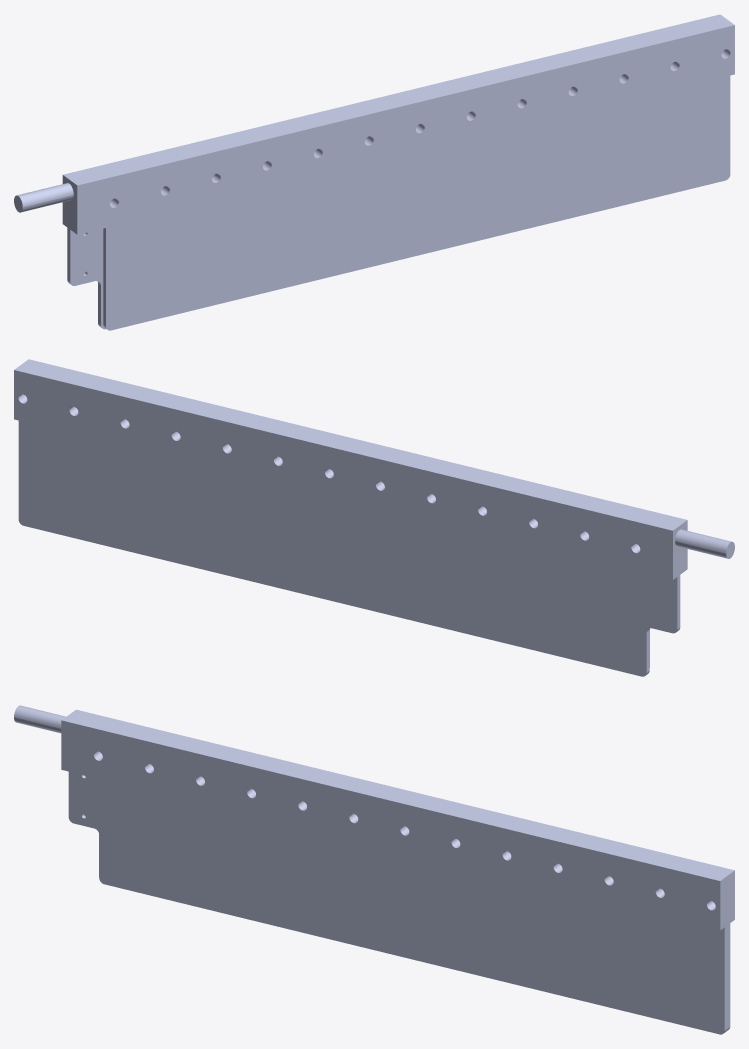
Rendered from MUA-12.glb.
3 renders of one model, top to bottom at view 1: azimuth 30°, elevation 25°; view 2: azimuth 150°, elevation 25°; view 3: azimuth 330°, elevation 25°, orthographic.
Parts seen in each view (by area): view 1: MUA-12_node_1; view 2: MUA-12_node_1; view 3: MUA-12_node_1.
Part boxes in pixels (x1,y1,x2,y2): MUA-12_node_1: (14, 14, 734, 330); MUA-12_node_1: (14, 359, 734, 676); MUA-12_node_1: (14, 705, 734, 1034).
Size of the model in its own units: 278 by 59.1 by 10.
